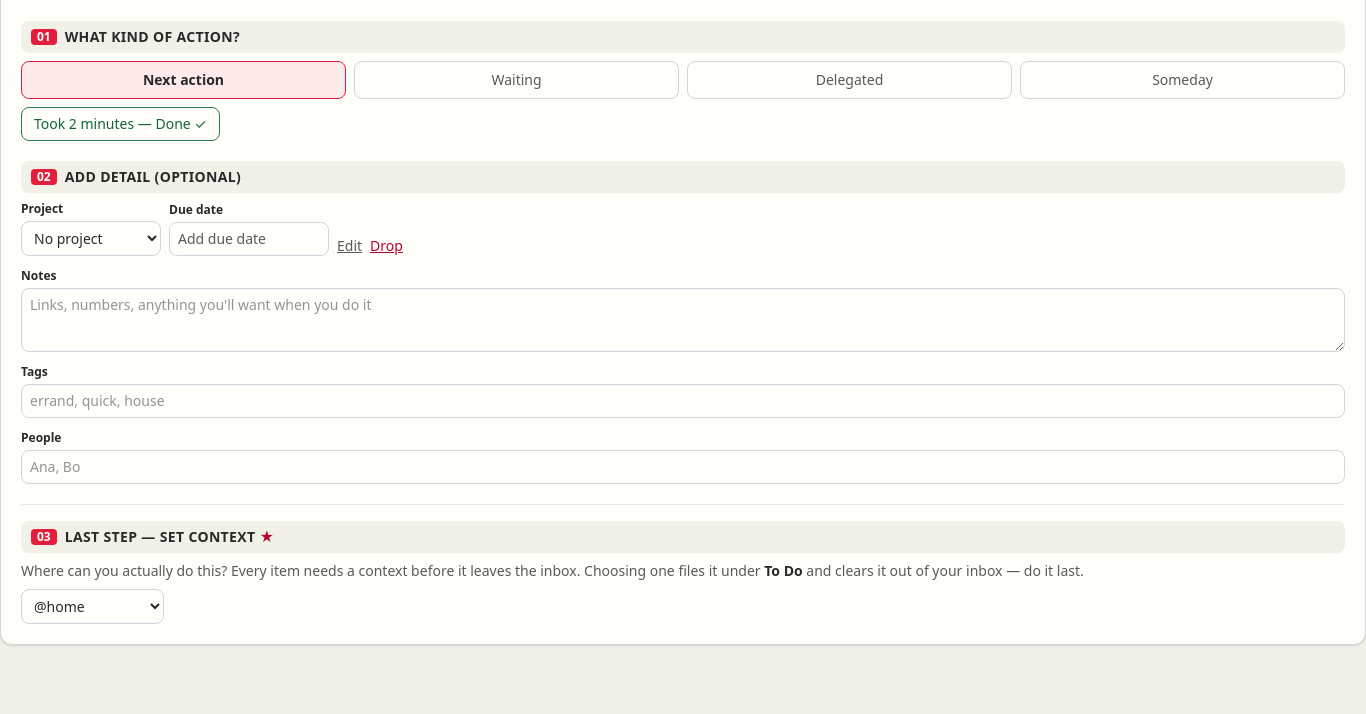
todo-gtd #2925 — filing an inbox item under a context › says it is still filed — not still marked done — when the revert is rejected
The width and height of the screenshot is (1366, 714).
Step 1. Select "@home" in the dropdown named "Set context and file this todo" → (92, 606), box [21,589,164,624]
(page scrolled)
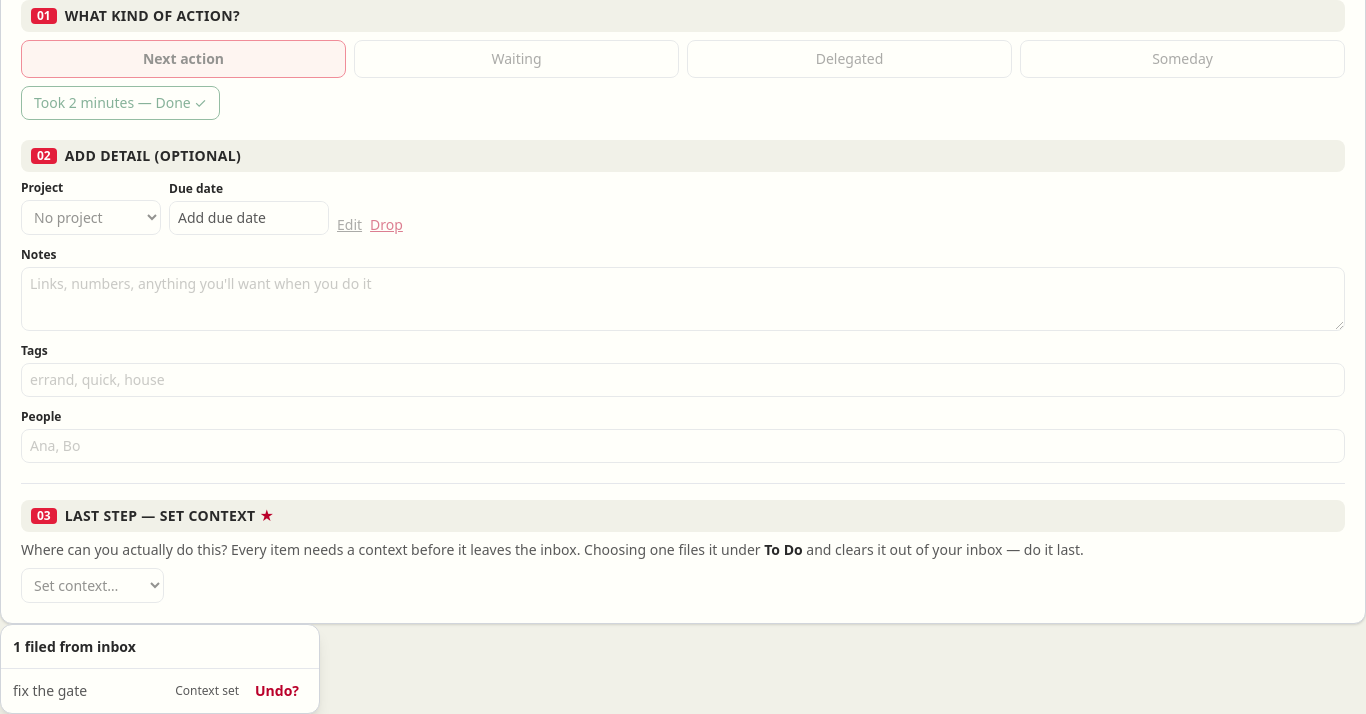
Step 2. Click the button "Undo?" → (277, 691), box [247,677,307,705]
(page scrolled)
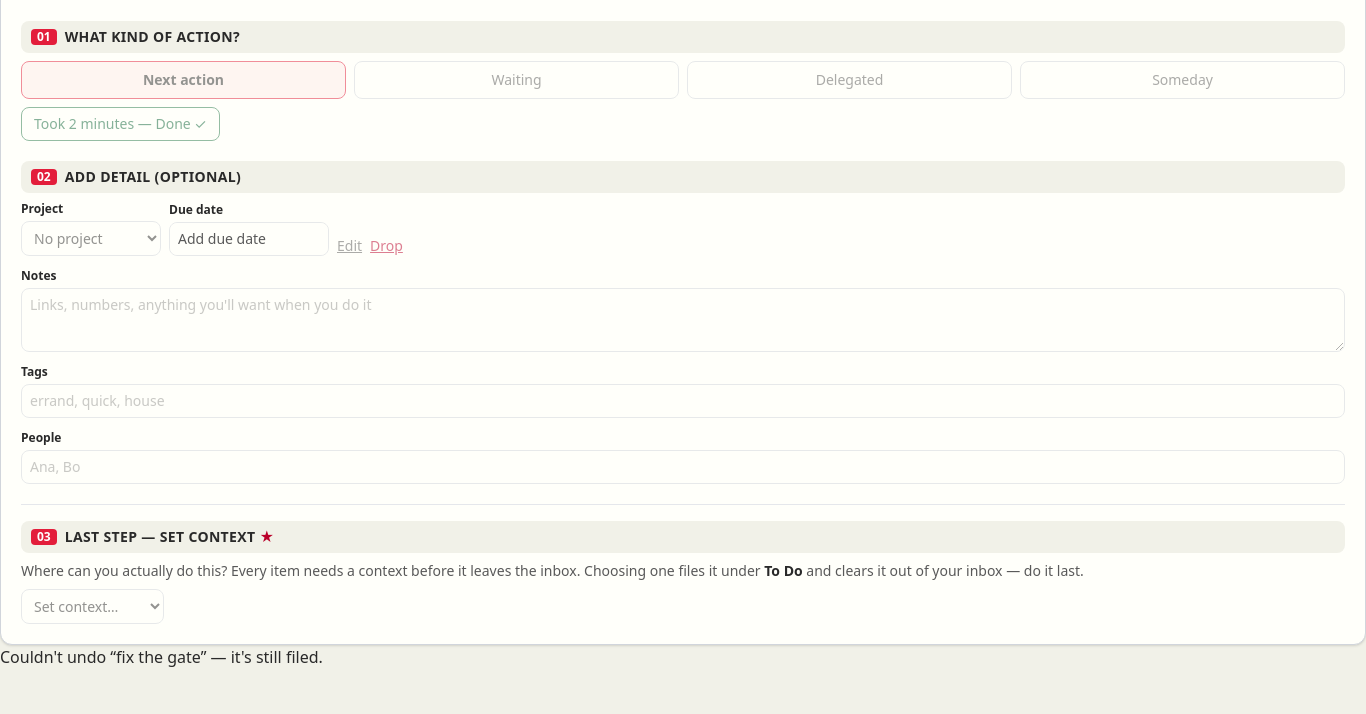
Now the text "it's still filed" is shown, box [0,646,323,668]
